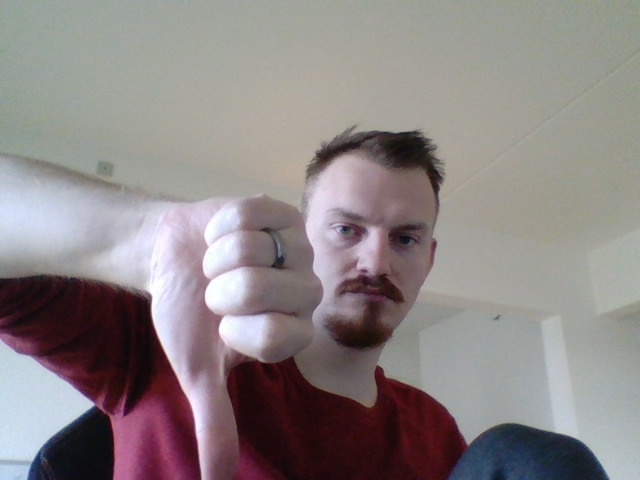ThumpsDown: (147, 184, 327, 480)
